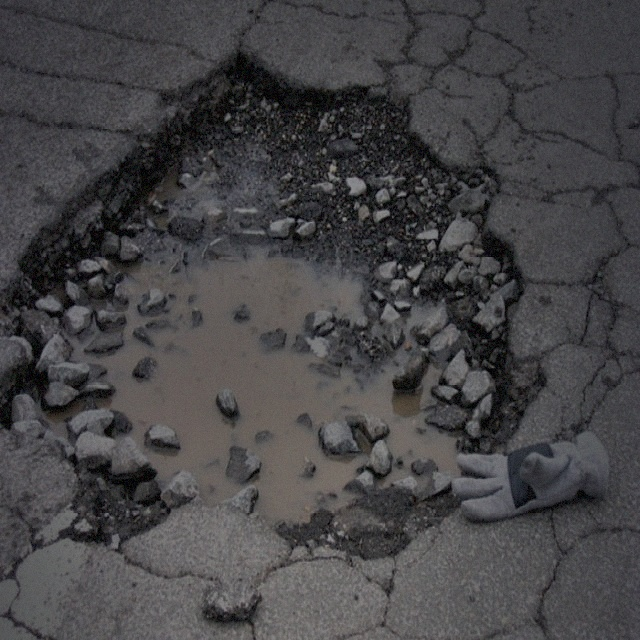pothole: (30, 70, 525, 554)
